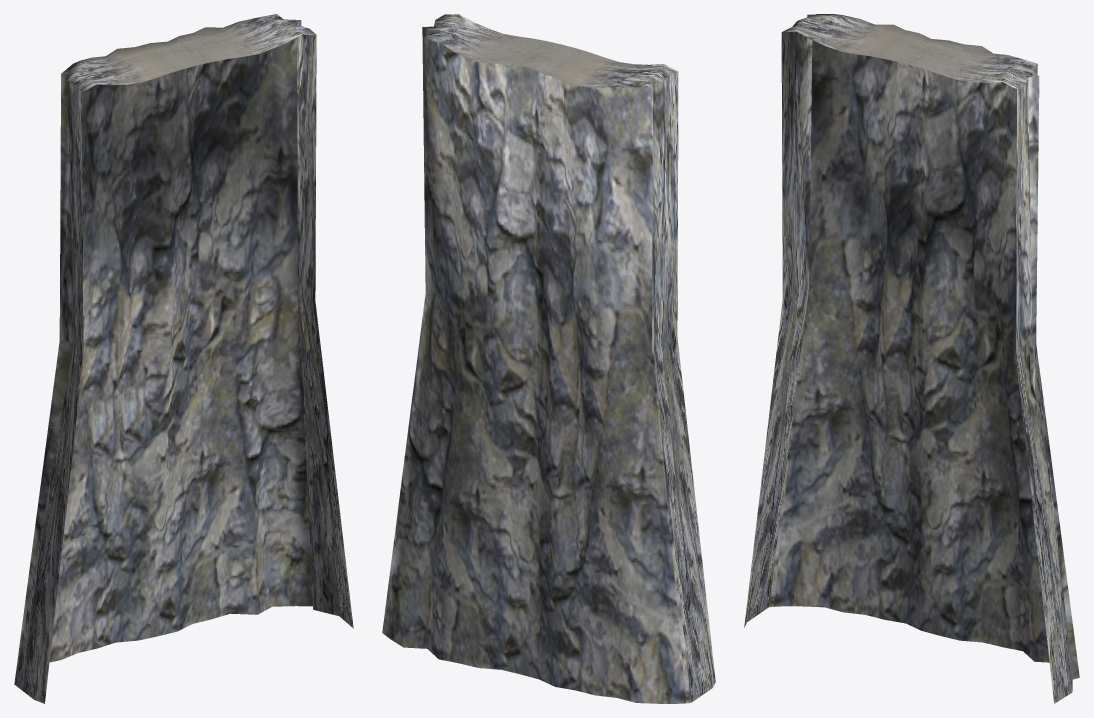
The model's file is Platform_Edge.FBX.
3 renders of one model, left to right at view 1: azimuth 30°, elevation 25°; view 2: azimuth 150°, elevation 25°; view 3: azimuth 330°, elevation 25°, orthographic.
Visible parts, largest first — view 1: Box01; view 2: Box01; view 3: Box01.
Boxes of the visible parts, x1,y1,x2,y2 form: Box01: (14,14,353,703); Box01: (382,14,715,703); Box01: (744,14,1079,703).
Bounding box in the file's own units: 1367 × 2520 × 347.
2 materials, 2 textured.
